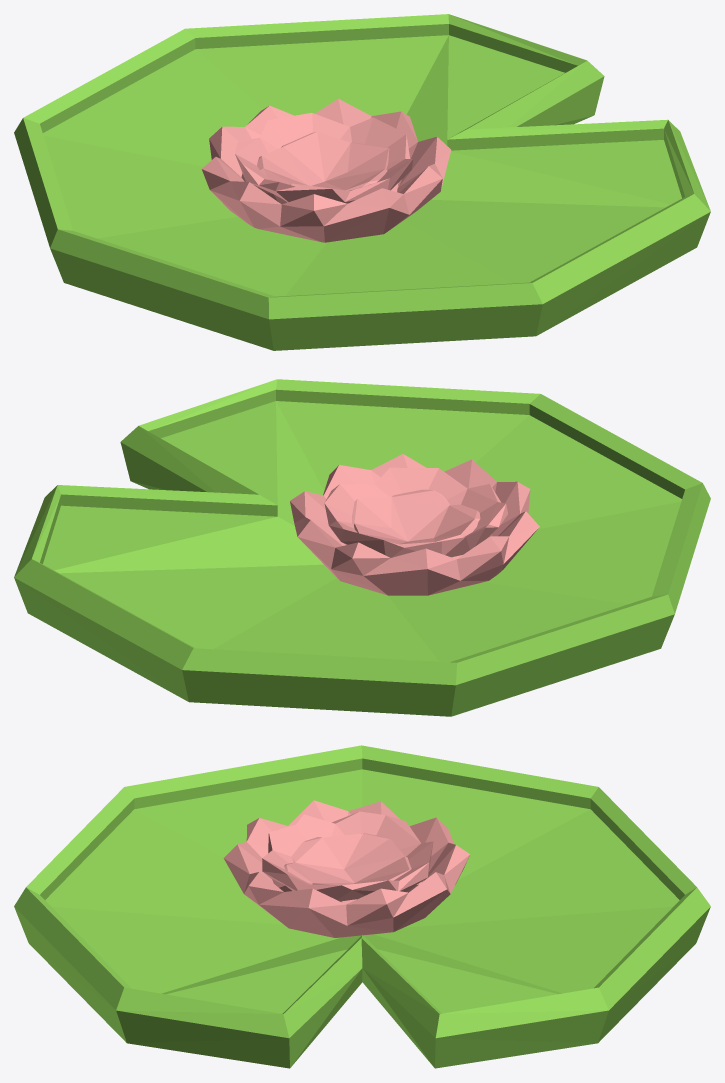
File: lilypad_flower.fbx
3 renders of one model, top to bottom at view 1: azimuth 30°, elevation 25°; view 2: azimuth 150°, elevation 25°; view 3: azimuth 270°, elevation 25°, orthographic. The views are drawn at different scales.
Parts seen in each view (by area): view 1: lilypad_flower; view 2: lilypad_flower; view 3: lilypad_flower.
Part boxes in pixels (x1,y1,x2,y2): lilypad_flower: [14, 14, 710, 350]; lilypad_flower: [14, 379, 710, 716]; lilypad_flower: [14, 745, 710, 1068].
Bounding box in the file's own units: 102 × 15.19 × 108.
